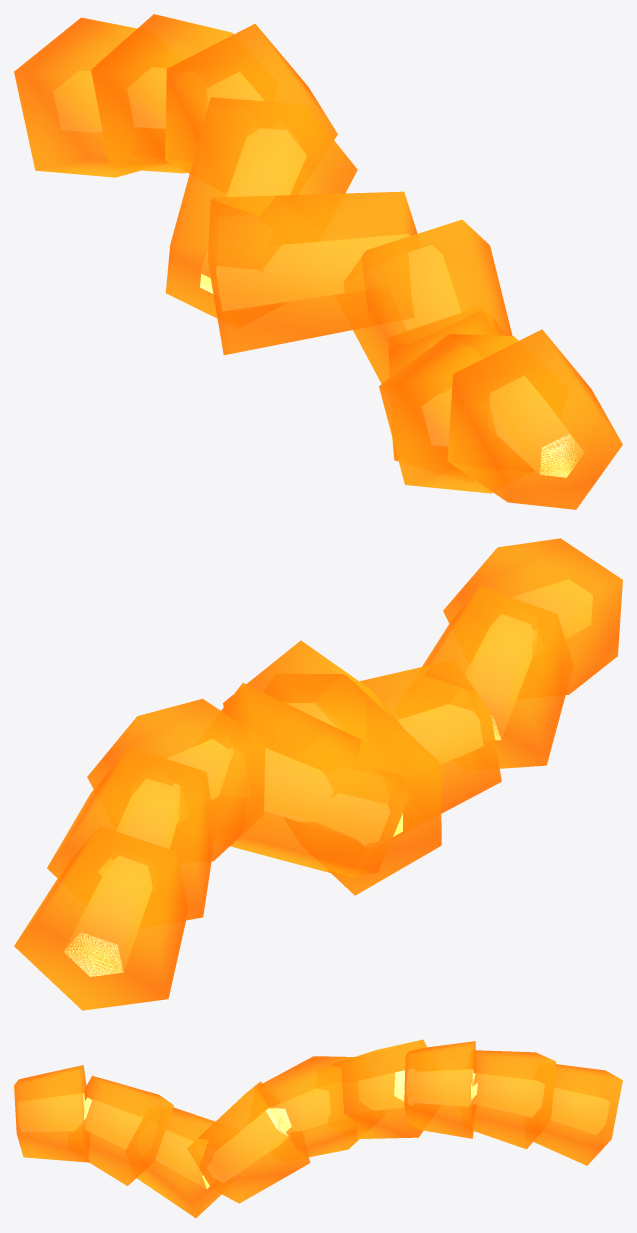
The model's file is fx_zap_x.glb.
3 renders of one model, top to bottom at view 1: azimuth 30°, elevation 25°; view 2: azimuth 150°, elevation 25°; view 3: azimuth 270°, elevation 25°, orthographic. The views are drawn at different scales.
Visible parts, largest first — view 1: fx_zap_x; view 2: fx_zap_x; view 3: fx_zap_x.
Part boxes in pixels (x1,y1,x2,y2): fx_zap_x: (14,14,622,509); fx_zap_x: (14,538,622,1010); fx_zap_x: (14,1039,622,1218).
Bounding box in the file's own units: 0.3037 × 0.3174 × 1.05.
